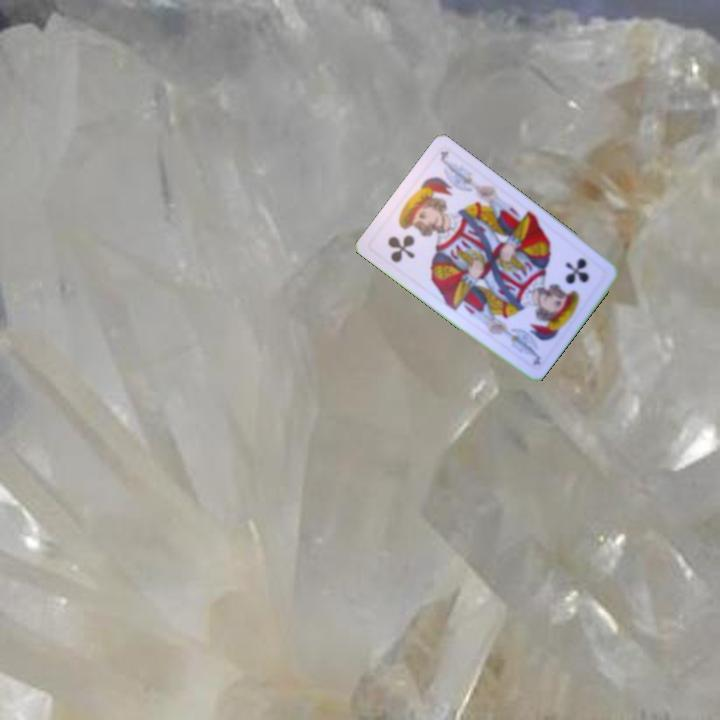c_j.png: (525, 238, 610, 324), (366, 194, 450, 280)
